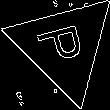P_E: (34, 22, 93, 71)
